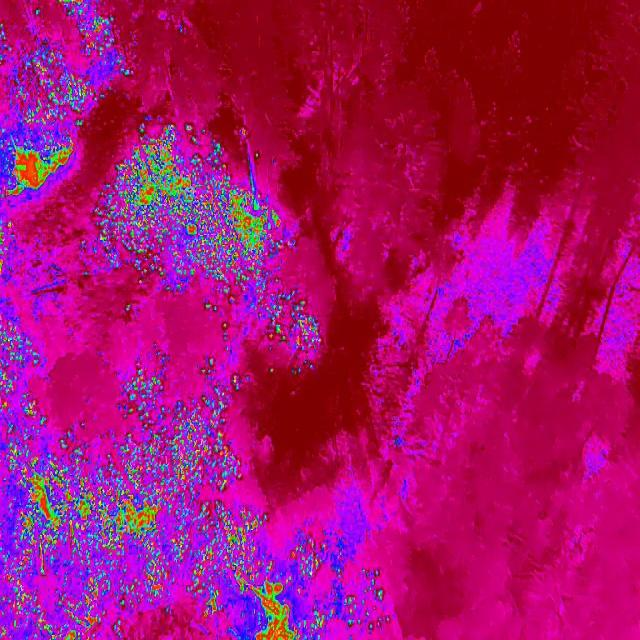fire: (97, 116, 287, 312), (0, 440, 178, 566), (290, 531, 397, 638), (177, 499, 265, 622), (0, 566, 119, 640), (148, 407, 244, 498), (260, 286, 338, 382), (13, 42, 96, 129), (1, 133, 76, 203), (0, 318, 44, 423), (248, 559, 300, 640), (60, 1, 126, 57), (118, 364, 170, 424), (117, 565, 175, 607), (196, 358, 226, 408), (0, 211, 18, 280), (112, 52, 140, 86), (227, 368, 253, 394), (0, 18, 13, 68), (220, 320, 230, 334)
